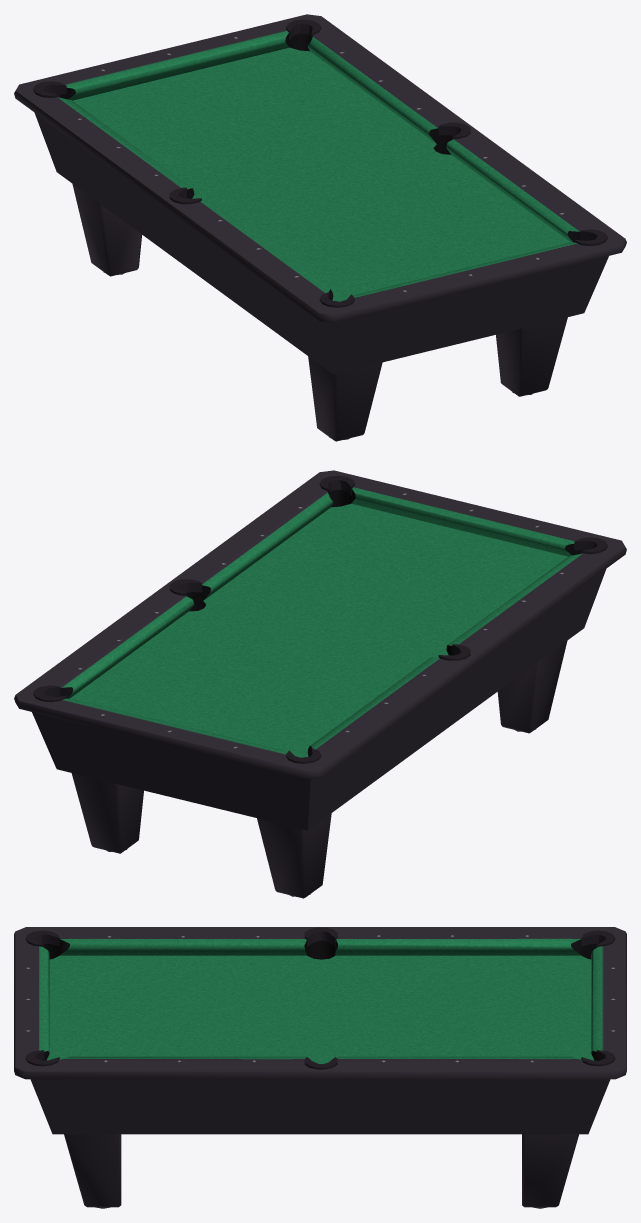
Rendered from table.fbx.
3 views of the same model, one above another, from view 1: azimuth 30°, elevation 25°; view 2: azimuth 150°, elevation 25°; view 3: azimuth 270°, elevation 25° (orthographic). The views are drawn at different scales.
Visible parts, largest first — view 1: table; view 2: table; view 3: table.
Part boxes in pixels (bbox=[...]): table: bbox=[14, 14, 626, 441]; table: bbox=[14, 470, 626, 898]; table: bbox=[14, 927, 626, 1208].
Size of the model in its own units: 152 by 79.45 by 272.
